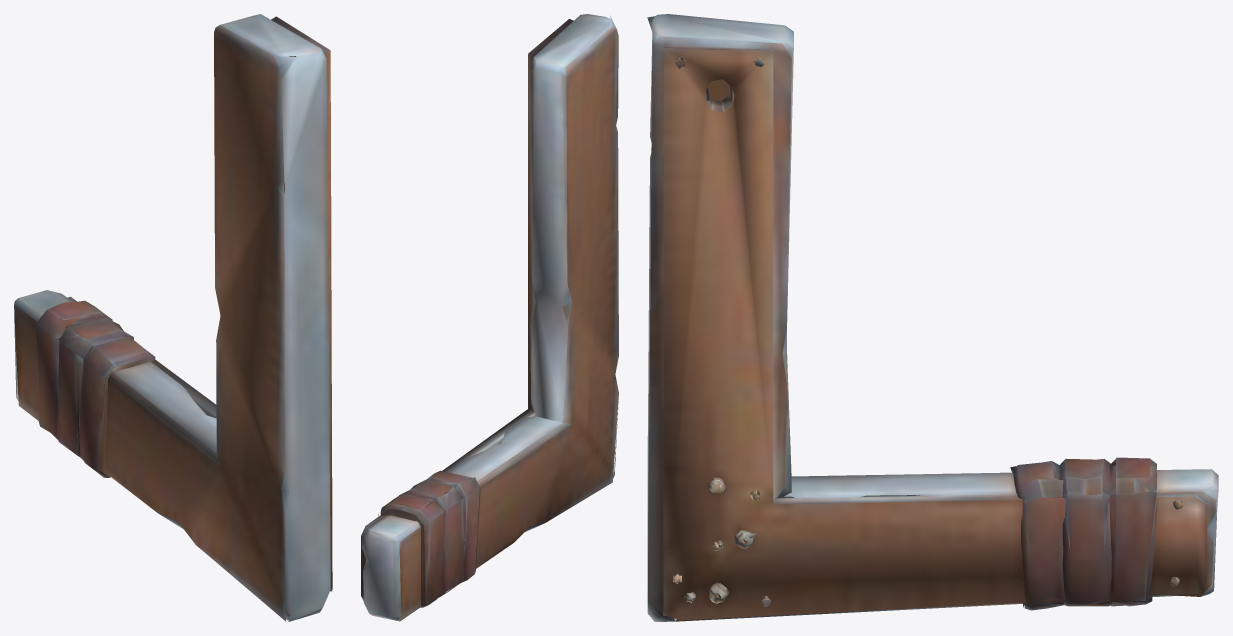
The model's file is architect_square.glb.
3 views of the same model, side by side, from view 1: azimuth 30°, elevation 25°; view 2: azimuth 150°, elevation 25°; view 3: azimuth 270°, elevation 25° (orthographic). The views are drawn at different scales.
Parts seen in each view (by area): view 1: architect_square; view 2: architect_square; view 3: architect_square.
Part boxes in pixels (bbox=[...]): architect_square: bbox=[14, 14, 332, 621]; architect_square: bbox=[361, 14, 618, 621]; architect_square: bbox=[647, 14, 1218, 621].
Bounding box in the file's own units: 0.072 × 0.5519 × 0.4828.
Materials: 1 (1 with a texture image).
